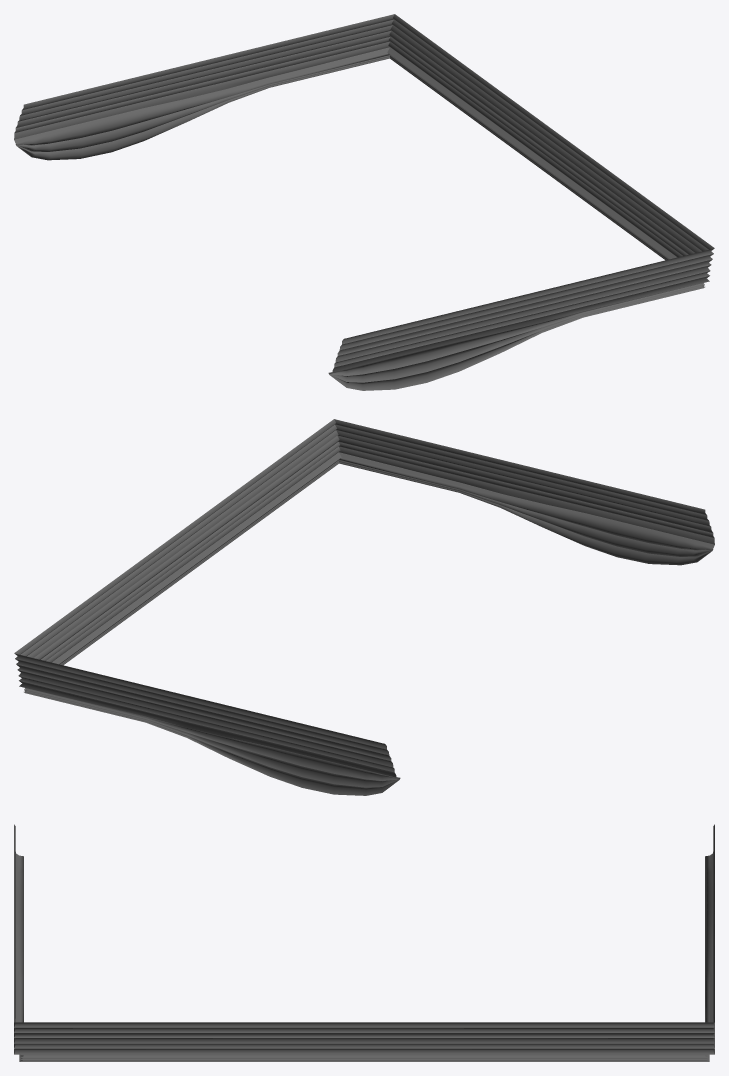
Rendered from Book_26_book_front_26_2.obj.
3 renders of one model, top to bottom at view 1: azimuth 30°, elevation 25°; view 2: azimuth 150°, elevation 25°; view 3: azimuth 270°, elevation 25°, orthographic. The views are drawn at different scales.
Size of the model in its own units: 0.2511 by 0.0419 by 0.3644.
1 material, 1 textured.
